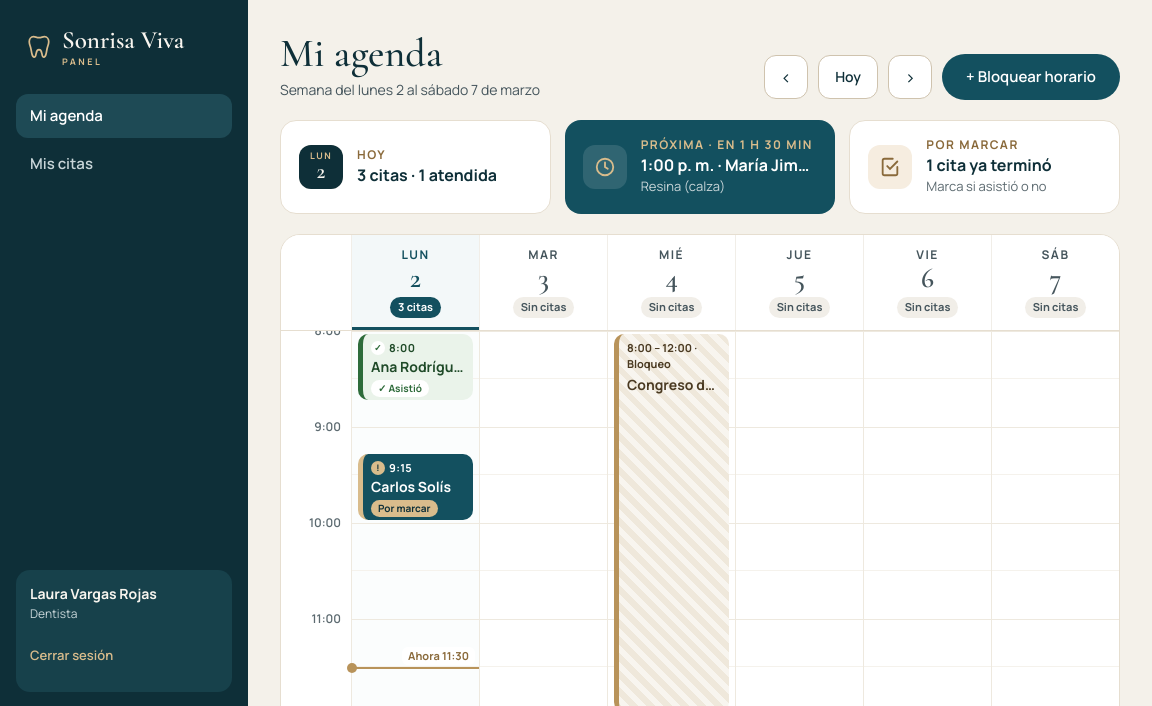
Agenda semanal › notas se guardan al salir del campo
Click the button "! 9:15 Carlos Solís Por marcar".
click(416, 487)  # box [358,454,473,520]
(page scrolled)
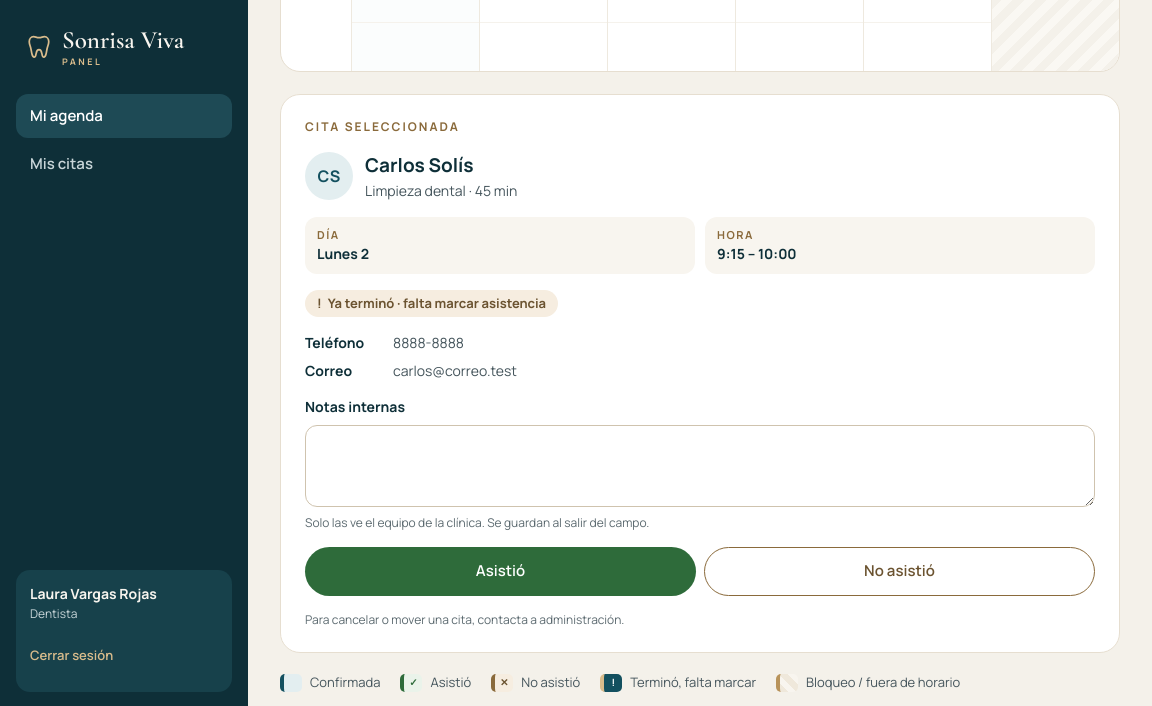
Type "Sensibilidad" into the text box labelled "Notas internas".
click(700, 466); type("Sensibilidad")  # box [305,425,1095,507]
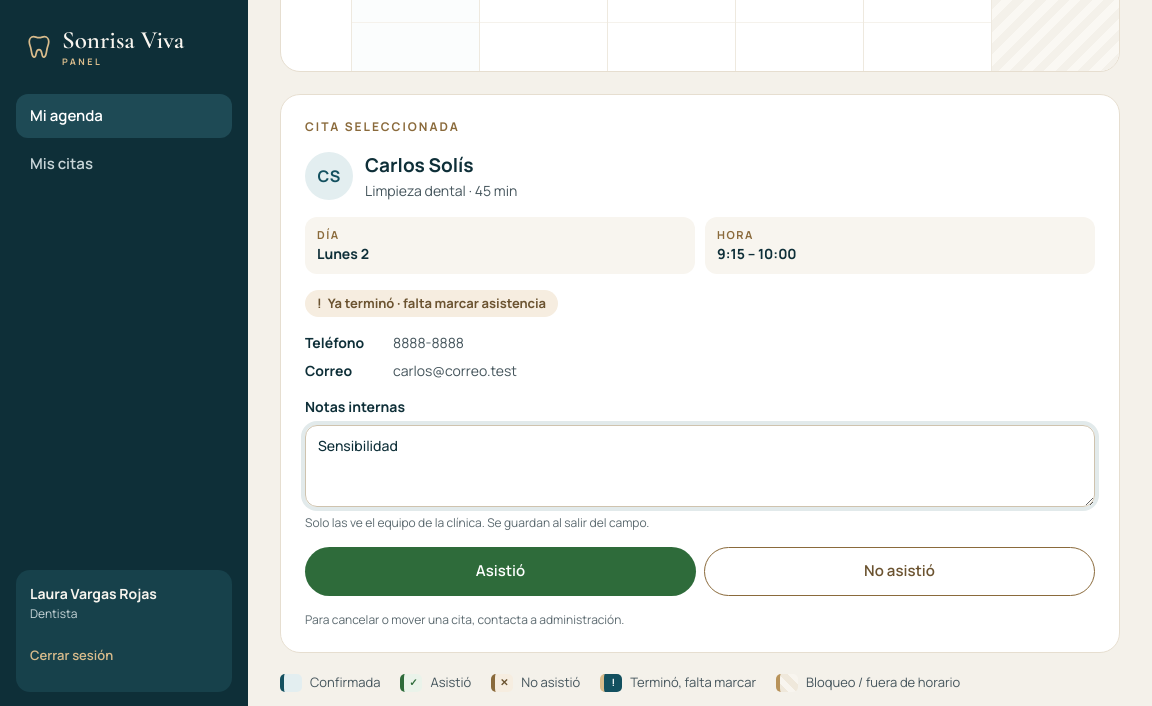
Press Tab
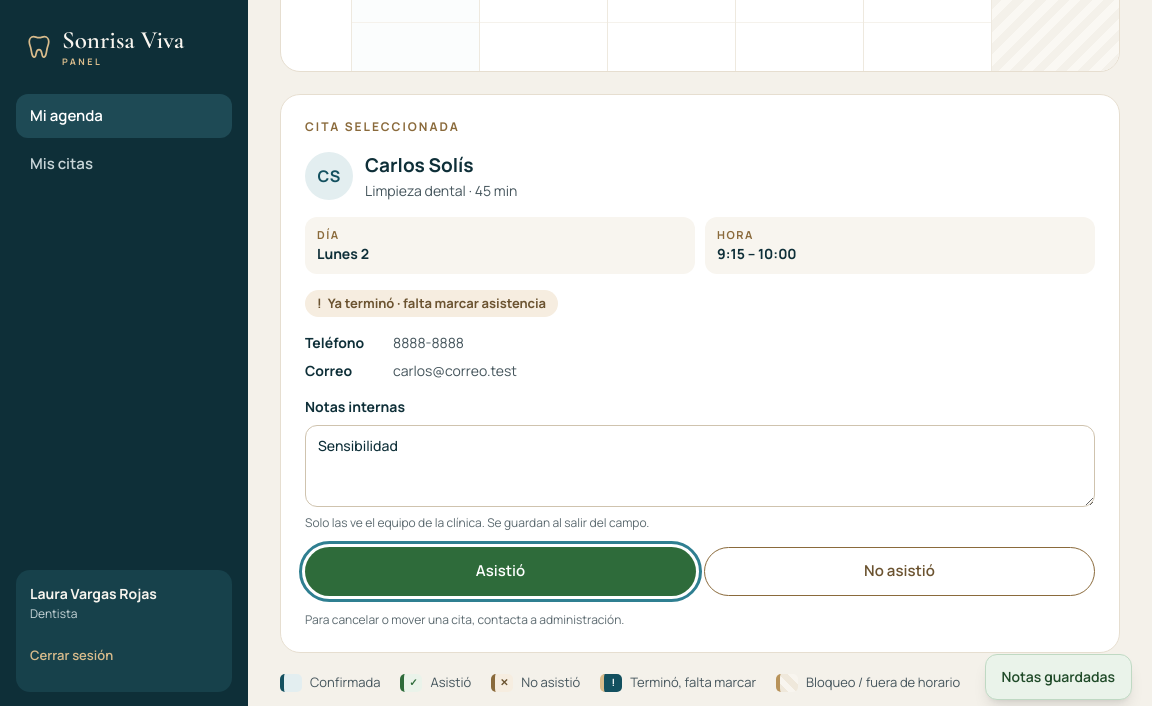
Expected: the text "Notas guardadas" is shown, [984,654,1132,700]
